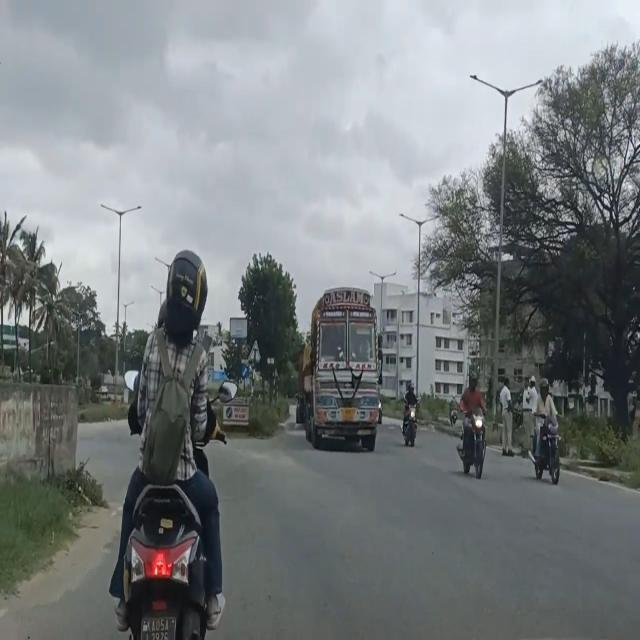bien_cam: (241, 364, 249, 380)
